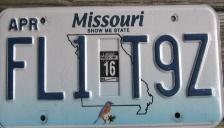1: (66, 33, 95, 101)
9: (152, 34, 183, 97)
F: (3, 33, 35, 103)
L: (35, 35, 67, 102)
T: (120, 33, 150, 101)
Z: (181, 32, 215, 98)
